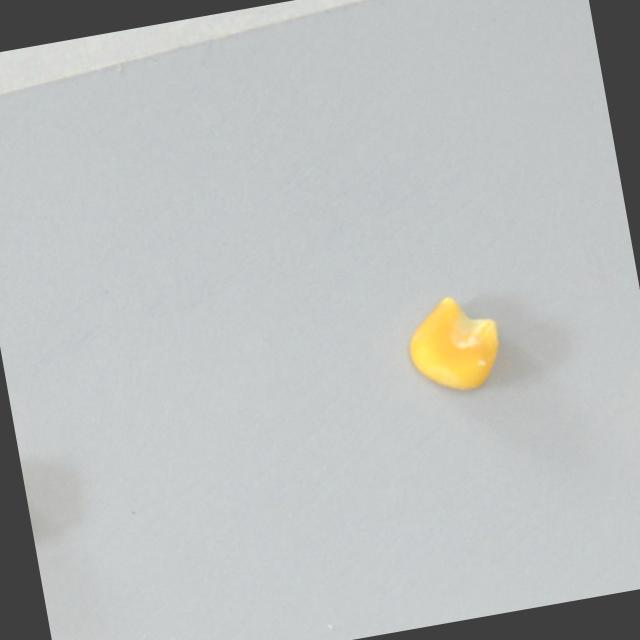no_canjicado: (400, 288, 509, 399)
